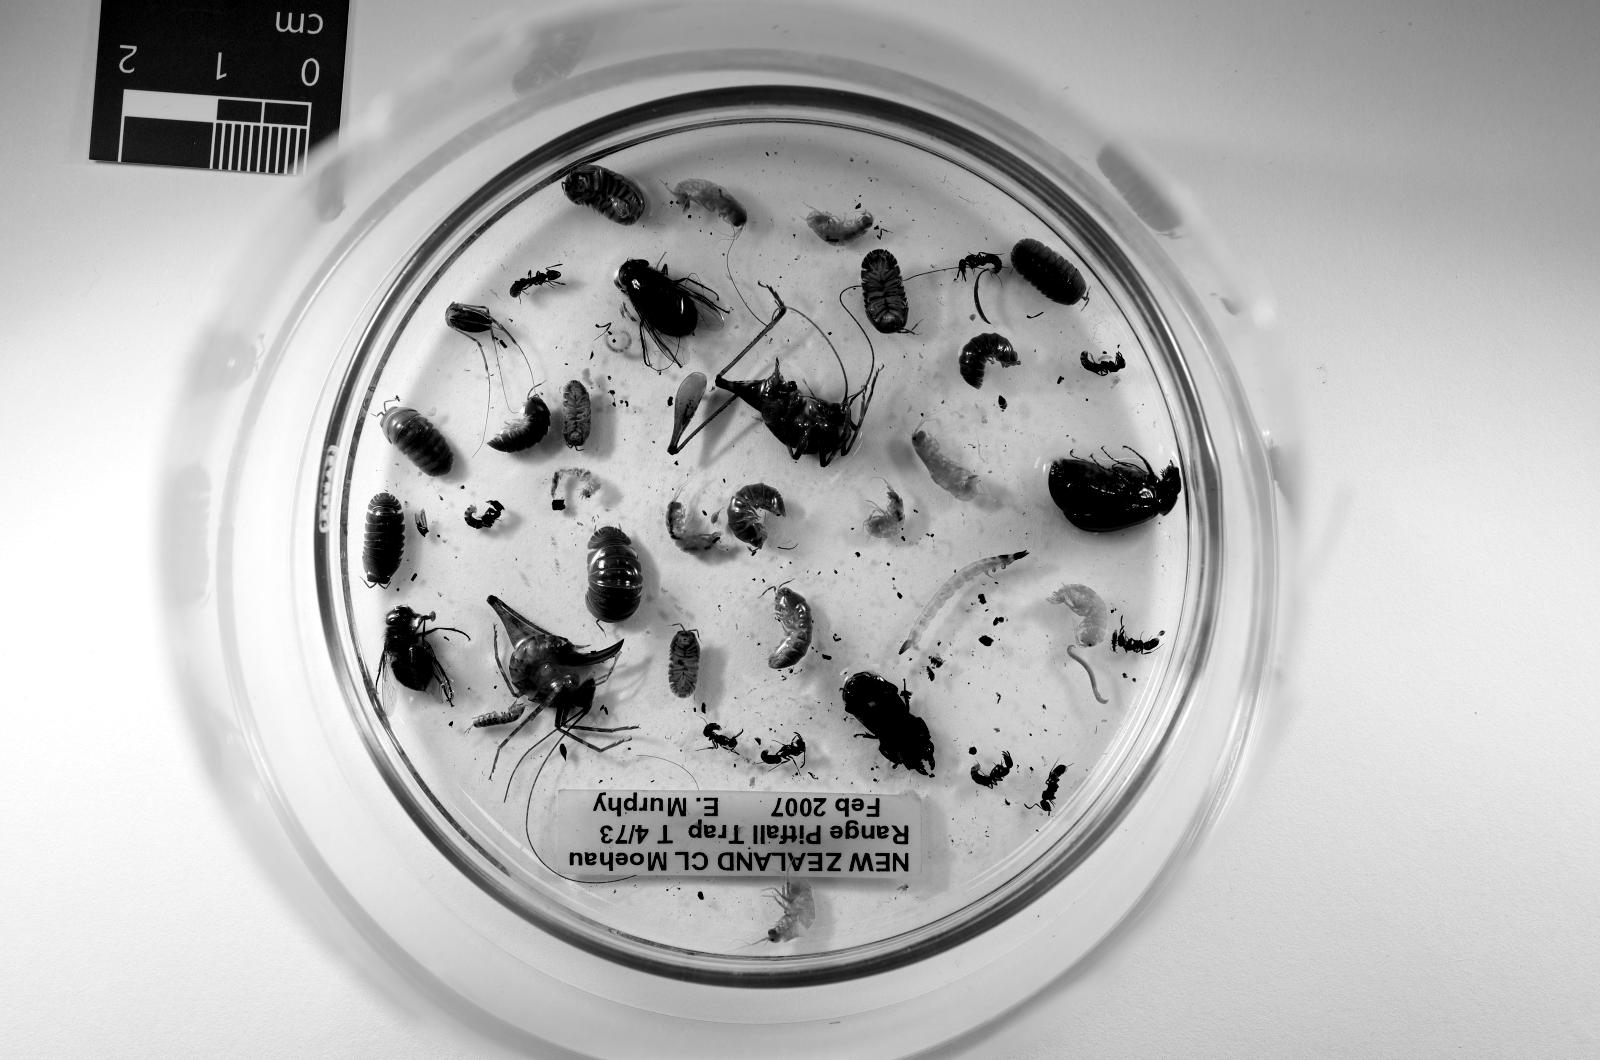amphipoda: (912, 429, 978, 500), (672, 180, 747, 230), (1047, 584, 1106, 646), (766, 879, 816, 944), (666, 500, 722, 556), (806, 211, 875, 245), (866, 484, 903, 537)
archaeognatha: (550, 469, 603, 500)
coleoptera: (1047, 438, 1181, 531), (841, 671, 934, 776), (925, 665, 934, 680)
coleoptera_larva: (900, 550, 1028, 655)
diplopoda: (1066, 646, 1106, 705), (603, 326, 631, 354)
diptera: (616, 261, 728, 366), (375, 606, 462, 714)
formicidae: (509, 267, 562, 298), (759, 733, 806, 767), (1038, 764, 1069, 814), (972, 752, 1012, 789), (1112, 627, 1159, 655), (956, 252, 1003, 279), (1078, 351, 1125, 376), (466, 500, 503, 531), (703, 724, 738, 752)
isopoda: (584, 528, 644, 621), (1009, 239, 1088, 304), (381, 407, 453, 475), (562, 165, 644, 224), (862, 248, 909, 332), (728, 484, 784, 550), (362, 494, 403, 584), (769, 587, 812, 668), (491, 394, 550, 453), (959, 332, 1019, 388), (669, 630, 700, 699), (562, 382, 591, 447), (472, 705, 525, 727)
opiliones: (444, 301, 512, 351)
orthoptera: (716, 286, 878, 466), (488, 596, 634, 752)
